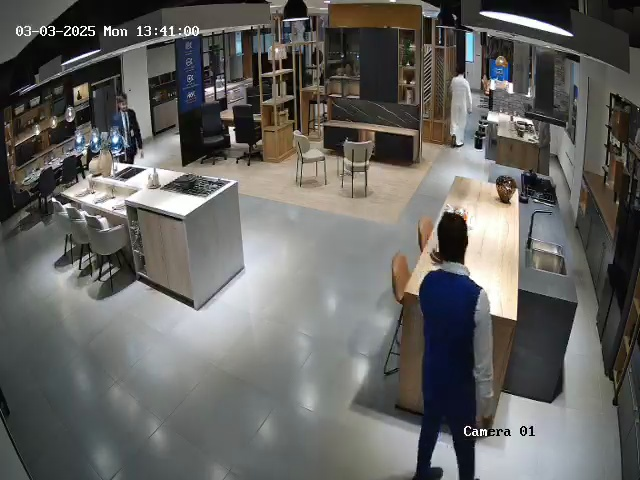employee: (411, 211, 495, 480), (110, 95, 143, 164)
male: (449, 66, 473, 148)
